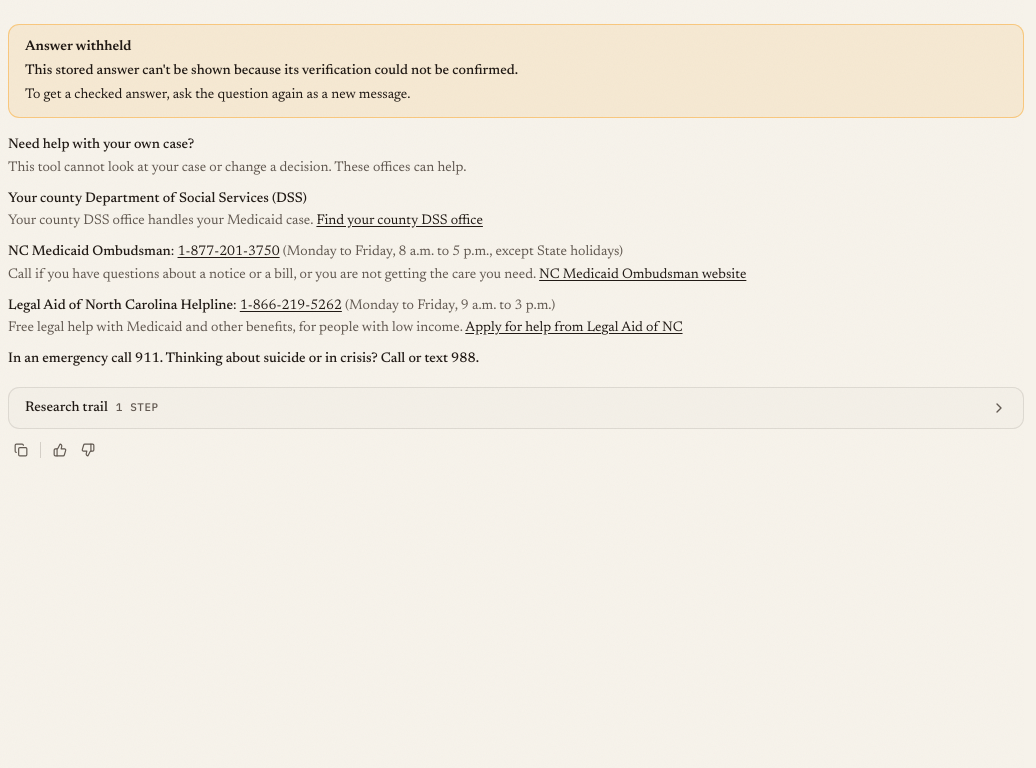
it: MessageList › renders legacy stored V2 messages in order after parsing
The image size is (1036, 768).
Step 1. Click the button with test id "research-trail-trigger" → (66, 408), box [8, 387, 1024, 429]
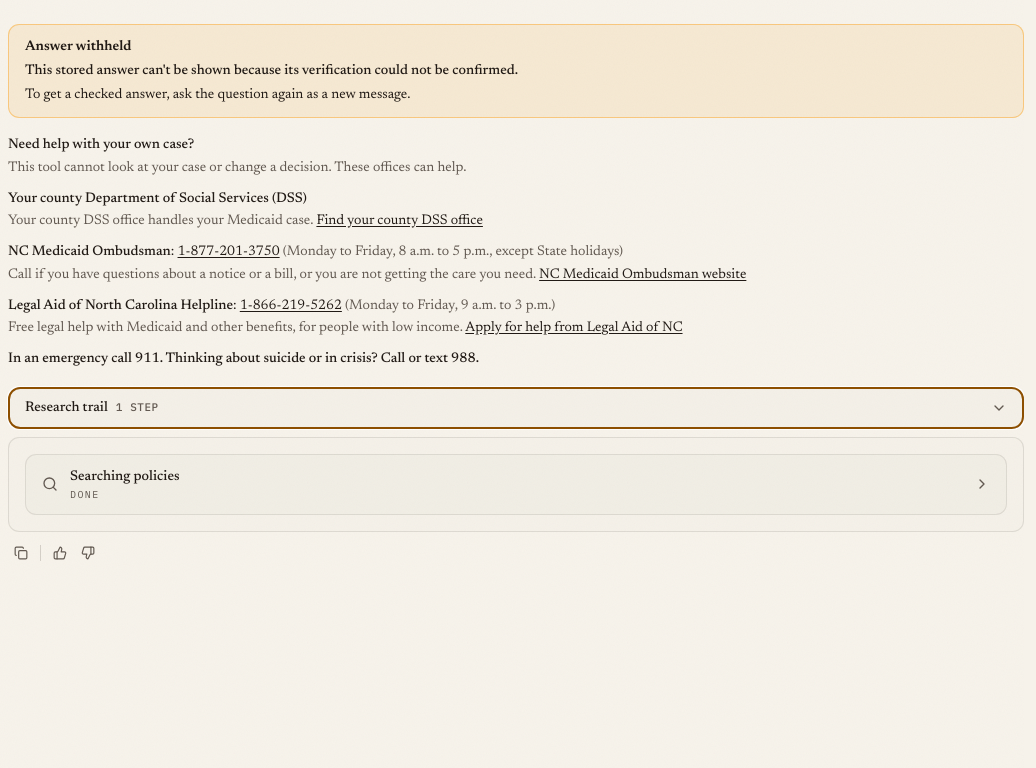
Result: the text "Searching policies" is shown at [70, 467, 180, 487]
